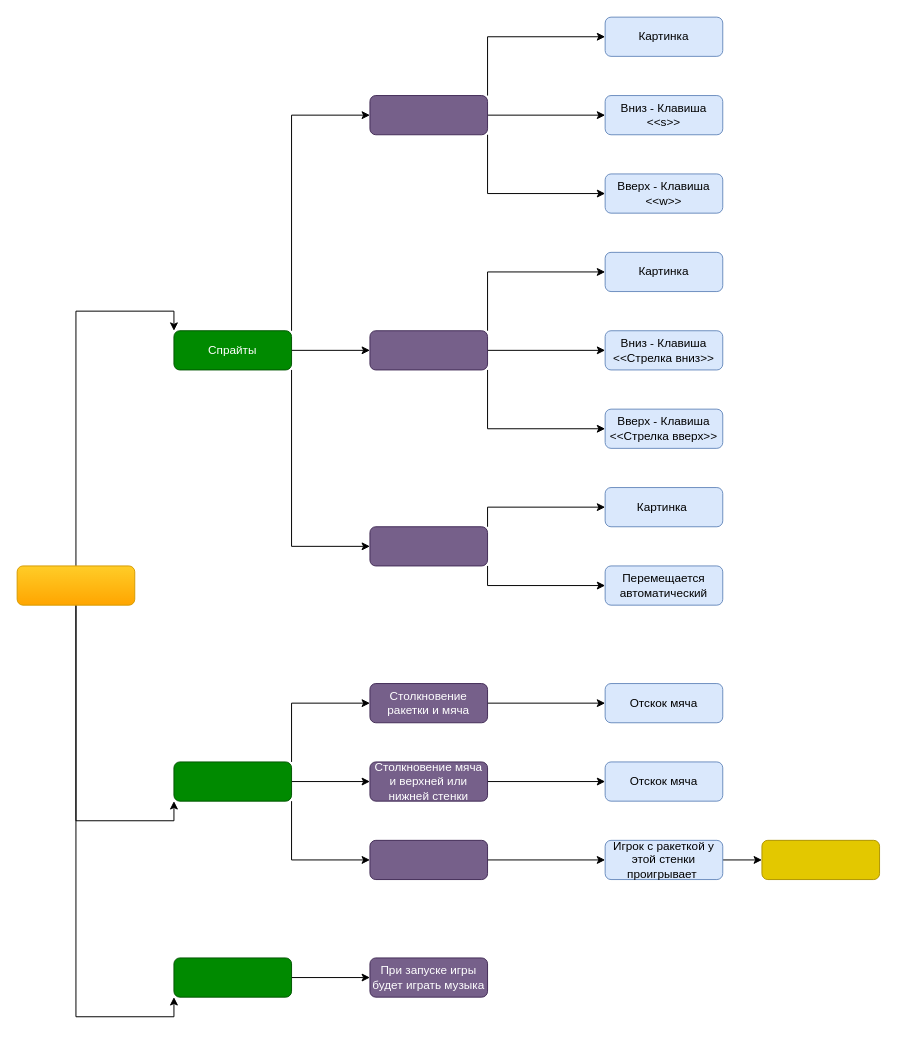
The diagram is 897 pixels wide and 1042 high, and some of its shapes have lost their labels. Here are the shapes that lost their labels. From the top down, the box of each, then its label:
(369, 95, 488, 135): Правая ракетка
(369, 330, 488, 370): Левая ракетка
(369, 526, 488, 566): Мяч
(16, 565, 135, 605): Пинг - понг
(173, 761, 292, 801): Действия
(369, 839, 488, 880): Мяч достиг боковой стенки
(761, 839, 880, 880): игроку напротив прибавляется один балл
(173, 957, 292, 997): Музыка
